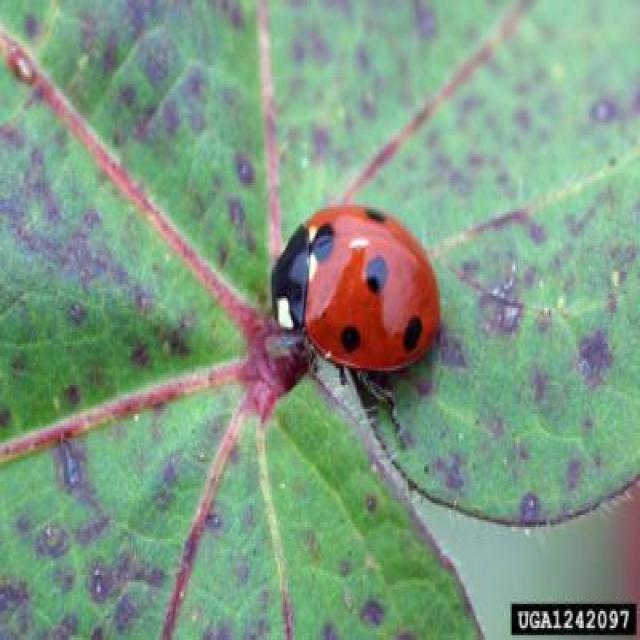body: (273, 207, 440, 373)
insect: (269, 198, 443, 390)
legs: (331, 358, 403, 420)
wings: (308, 202, 439, 373)
